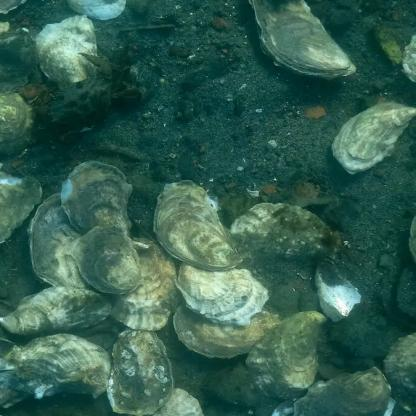Oyster-Closed: (28, 192, 111, 297), (0, 333, 112, 408), (251, 0, 357, 78), (154, 180, 243, 271), (247, 310, 327, 402), (104, 236, 178, 330), (230, 203, 337, 265), (332, 102, 416, 174), (177, 263, 269, 327), (173, 305, 283, 358), (107, 328, 175, 413), (0, 285, 113, 335), (60, 160, 132, 234), (294, 366, 394, 416), (72, 225, 142, 294), (35, 15, 97, 88), (315, 261, 363, 324), (0, 174, 44, 242), (0, 30, 39, 92), (383, 332, 416, 402), (0, 92, 35, 156), (154, 389, 206, 416), (67, 0, 127, 20)
